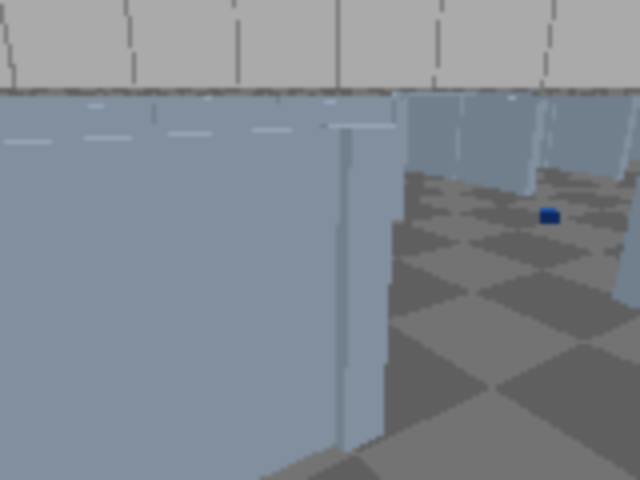puck: (539, 209, 560, 224)
